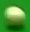white: (0, 0, 30, 32)
